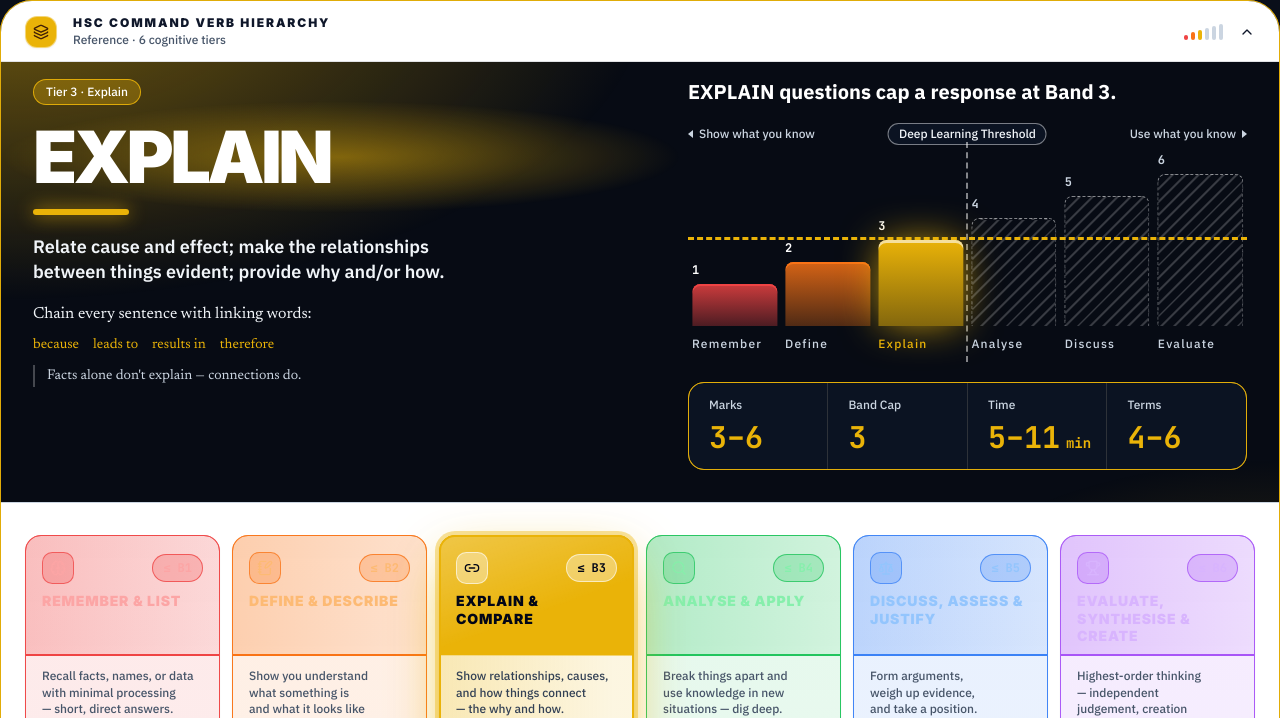
Test: the staircase lights one geometry from one palette › replays its reveal when the ribbon is opened › does not replay on closing — content fading in while the panel folds away
Click the button "HSC Command Verb Hierarchy Reference · 6 cognitive tiers".
click(41, 32)  # box [1,1,1279,62]
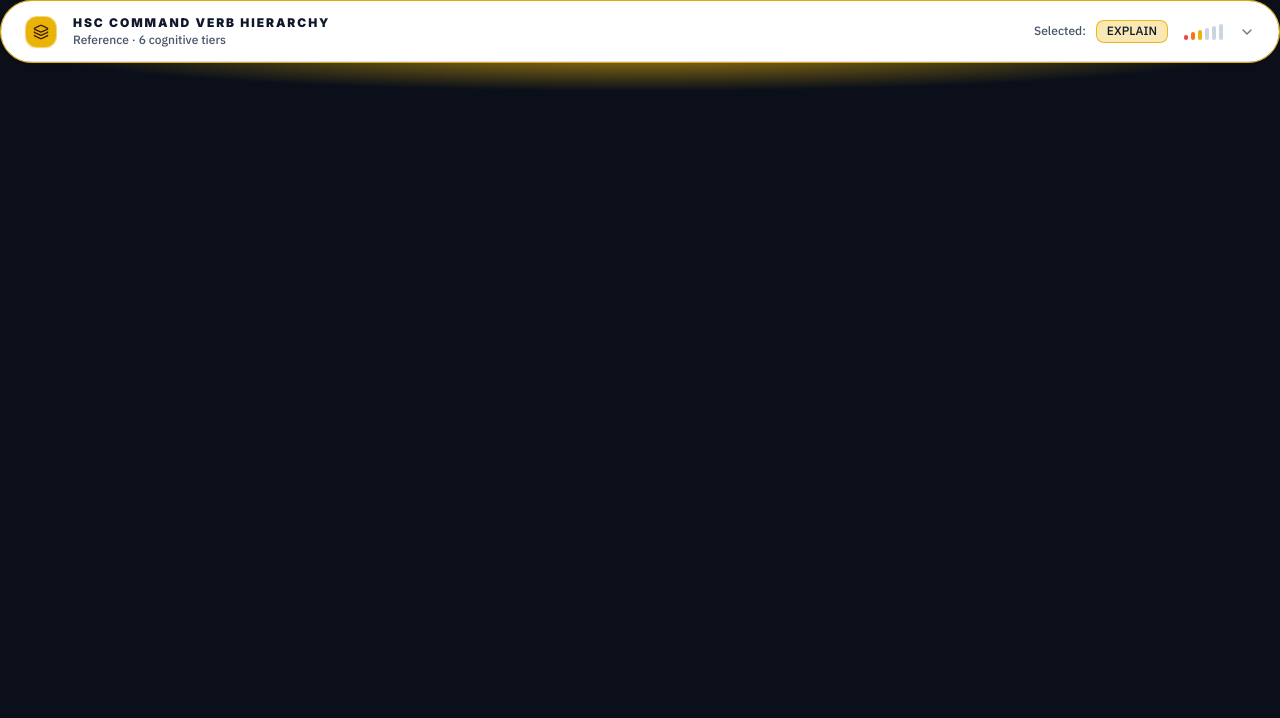
Expected: the button "Command Verb Hierarchy Reference" is collapsed, [1,1,1279,62]
